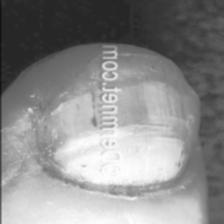Toxin: (119, 50, 196, 194), (22, 73, 102, 194)
